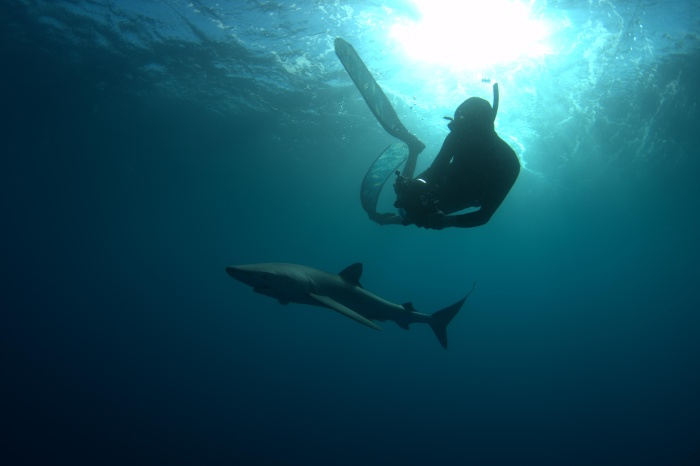Azul: (204, 242, 496, 358)
